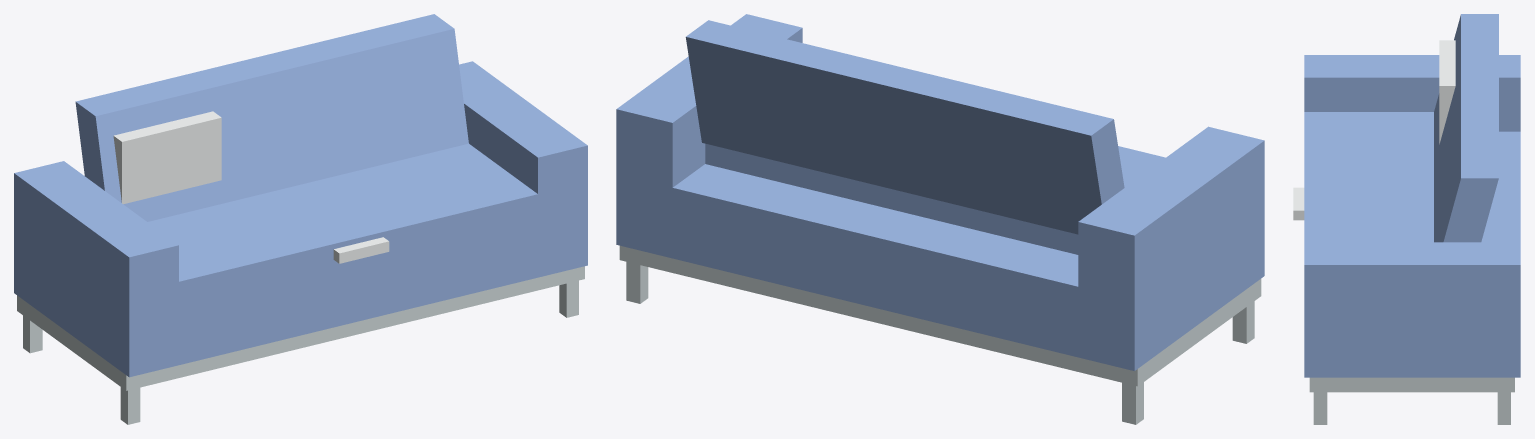
File: sofaBedConvertible.glb
The picture shows the model from 3 angles, left to right: view 1: azimuth 30°, elevation 25°; view 2: azimuth 150°, elevation 25°; view 3: azimuth 270°, elevation 25°; orthographic projection. The views are drawn at different scales.
Parts seen in each view (by area): view 1: sofaBedConvertible; view 2: sofaBedConvertible; view 3: sofaBedConvertible.
Boxes of the visible parts, <box> form: sofaBedConvertible: <box>14,14,587,424</box>; sofaBedConvertible: <box>616,14,1264,424</box>; sofaBedConvertible: <box>1293,14,1520,424</box>.
Size of the model in its own units: 0.92 by 0.46 by 0.42.
